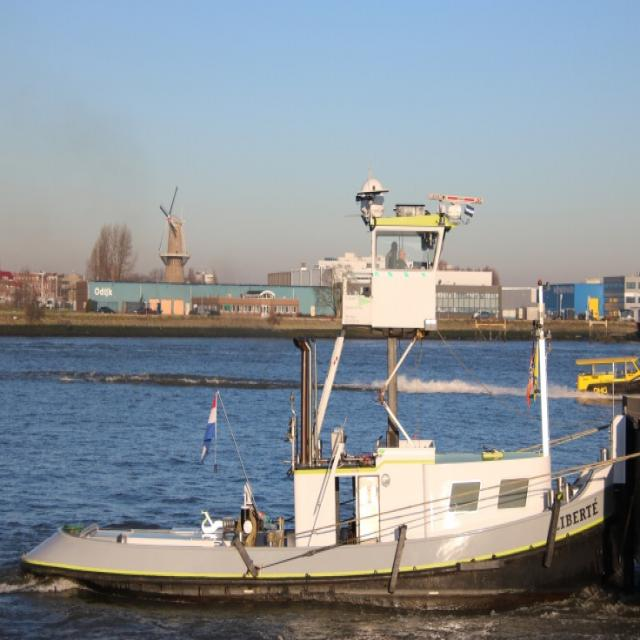tugboat: (18, 159, 633, 629)
